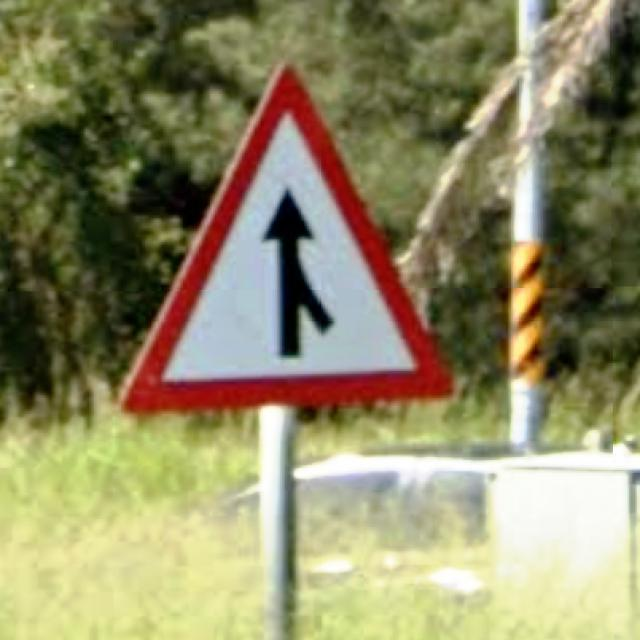rightmerge: (119, 64, 454, 413)
